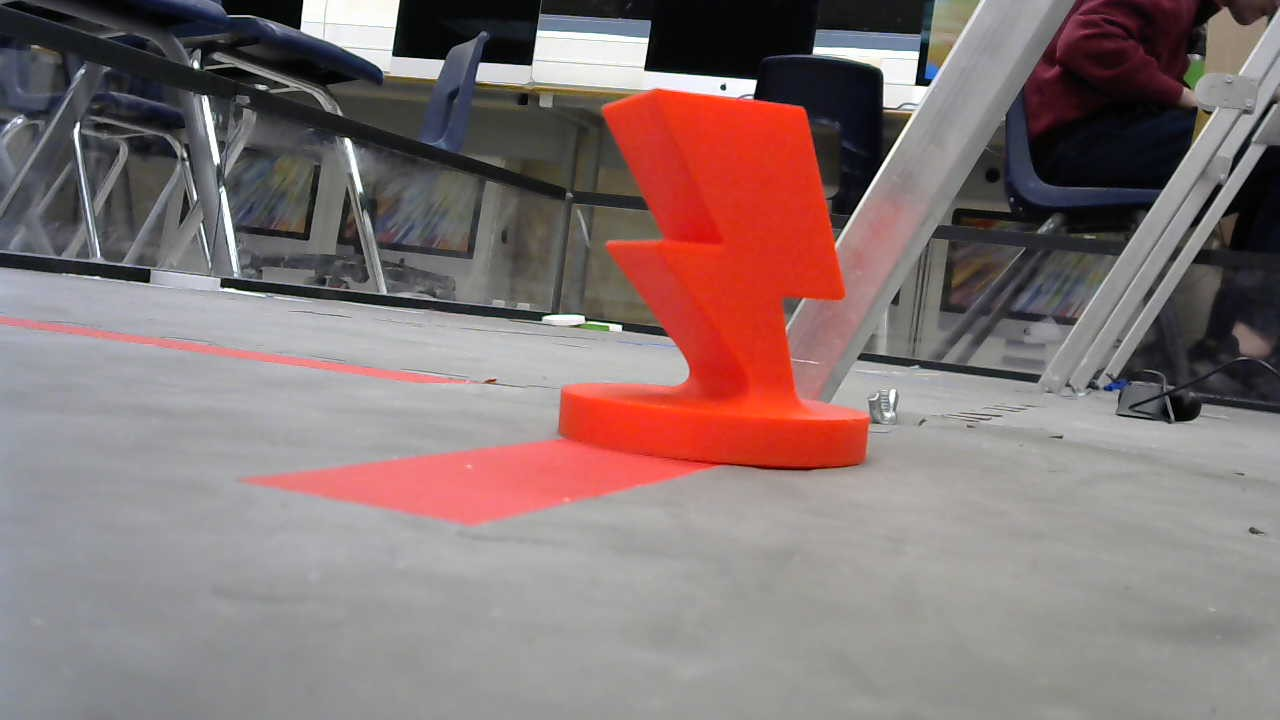redobject: (552, 83, 872, 472)
